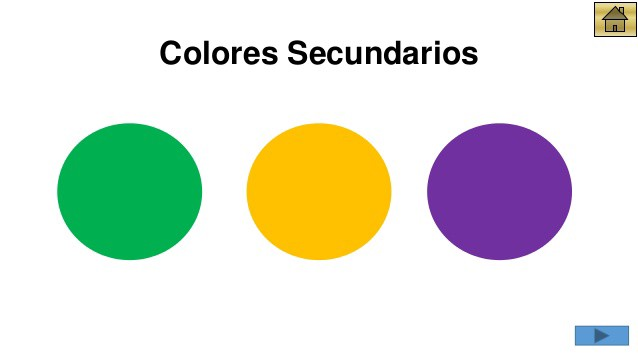circ: (46, 121, 213, 267), (420, 119, 583, 267), (241, 121, 403, 266)
